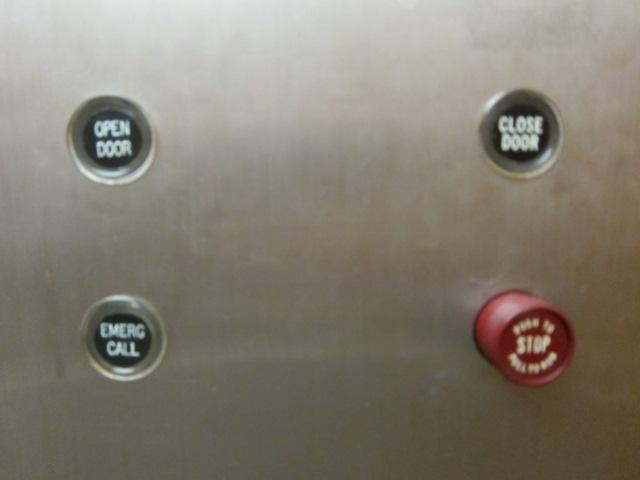text_close door: (475, 85, 567, 182)
text_emerg call: (77, 292, 168, 385)
text_open door: (63, 90, 159, 189)
text_stop: (473, 288, 578, 390)
